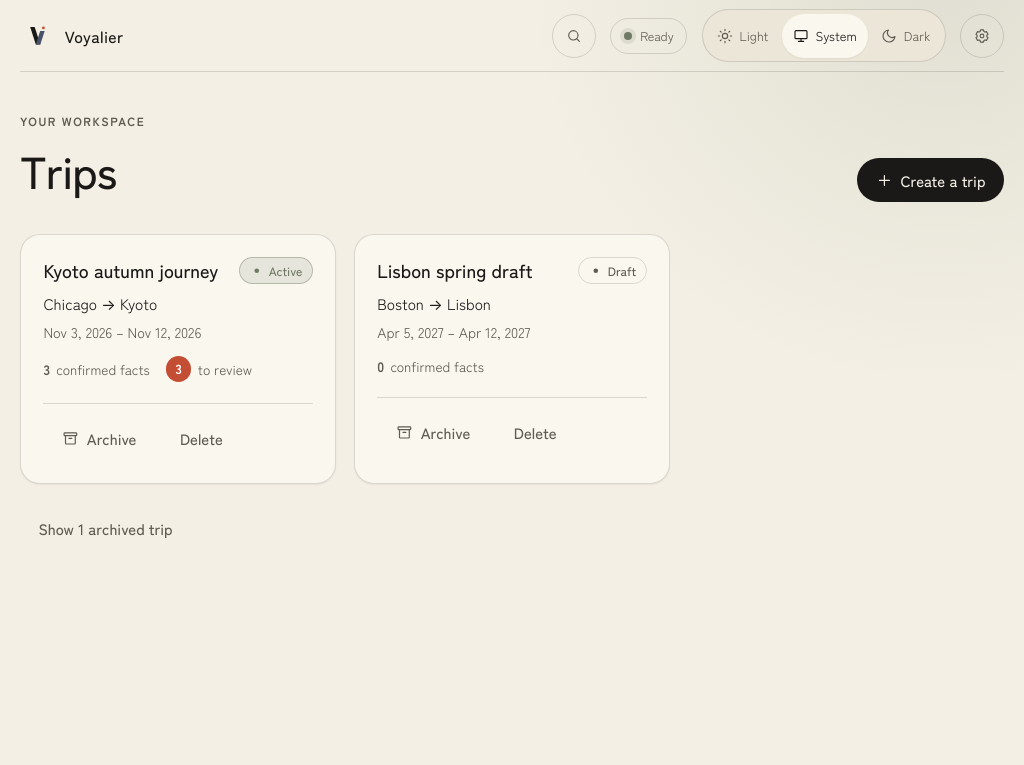
flight carbon estimate › estimates the trip's flights and says what the number is
Click the button with aria-label "Open Kyoto autumn journey". click: {"x": 131, "y": 270}
box: [43,257,218,283]
(page scrolled)
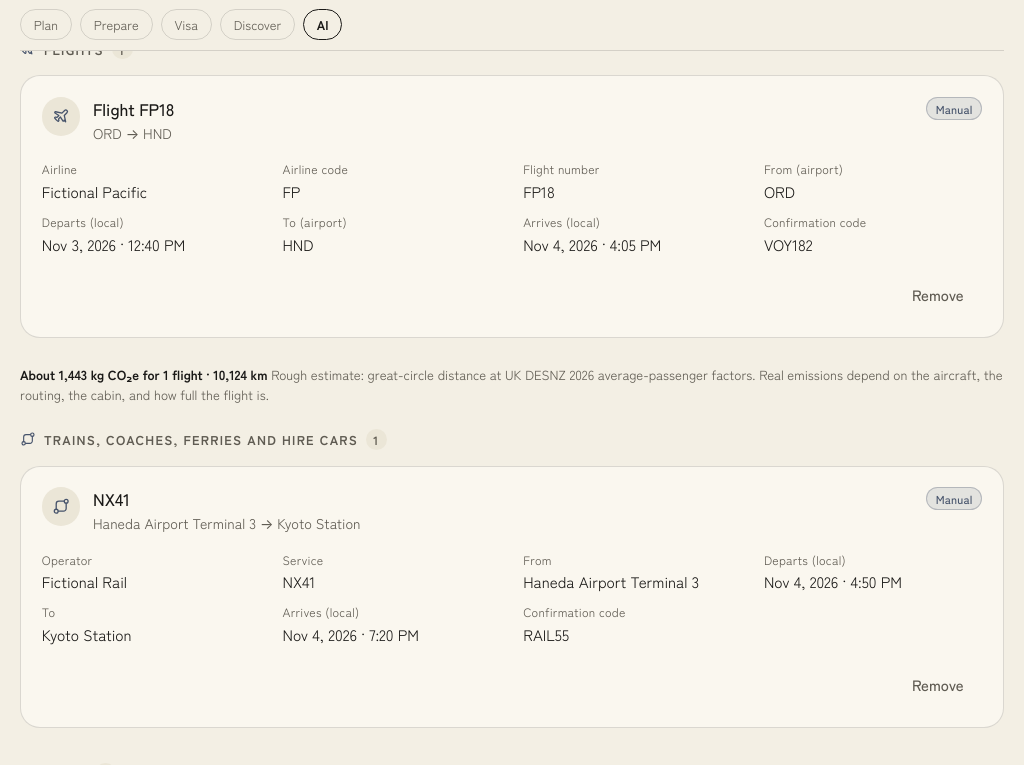
Expected: the text "About 1,443 kg CO₂e for 1 flight · 10,124 km" is shown, [20,365,268,384]
Expected: the text "Rough estimate" shows "DESNZ 2026 average-passenger factors", [20,365,1002,404]
